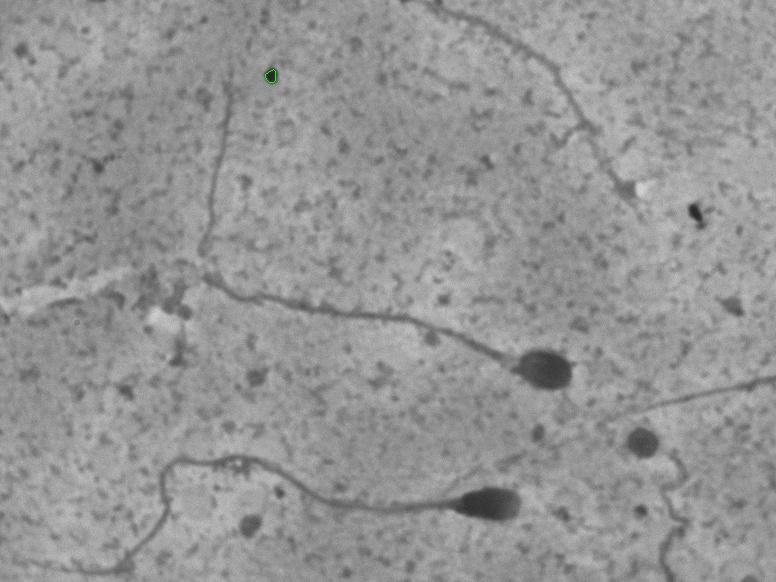Normal: (174, 61, 582, 411), (39, 456, 539, 577)
